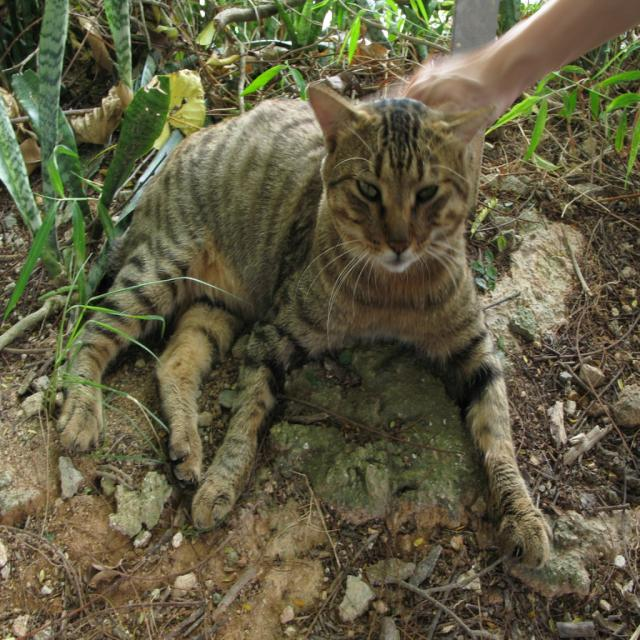Cat: (55, 80, 552, 573)
